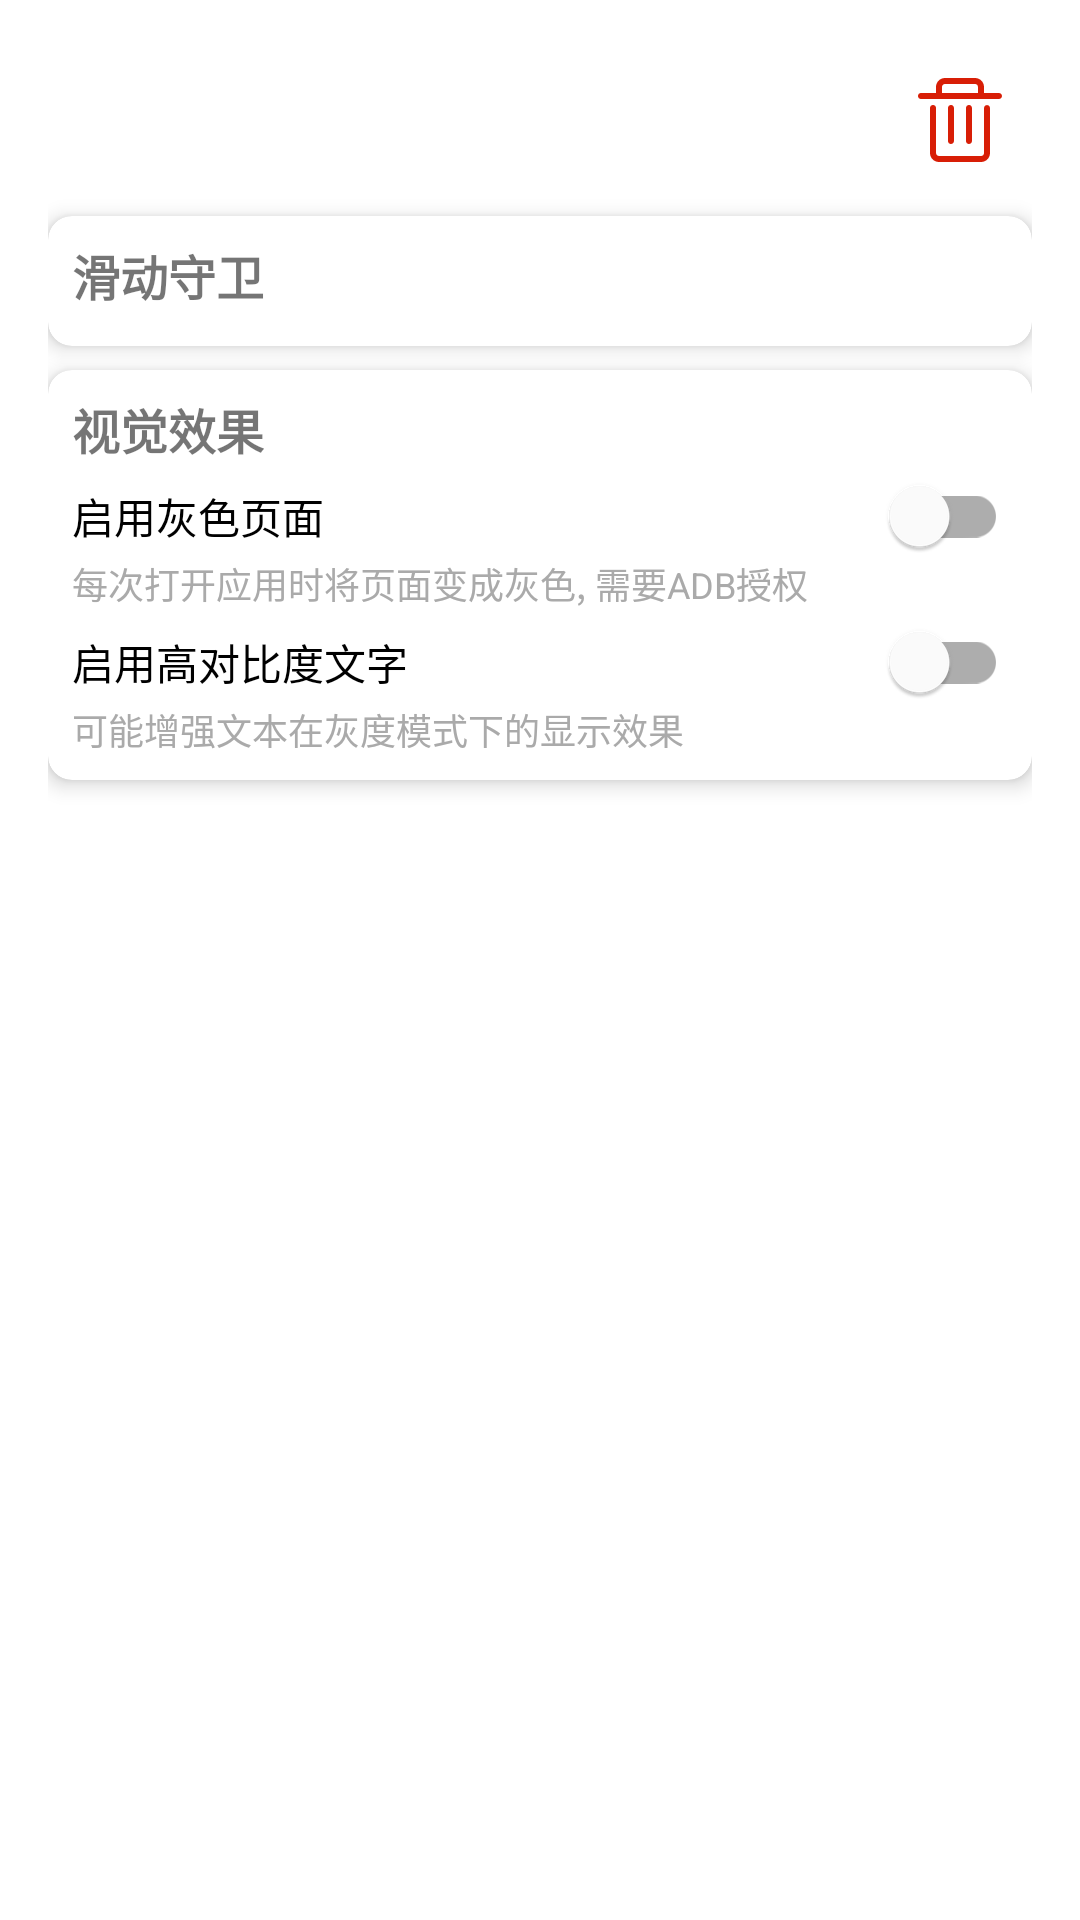

Where icons sit on this 1080px x 1920px app screen, as (x1, y1, x2, y2):
删除应用: (918, 78, 1002, 162)
